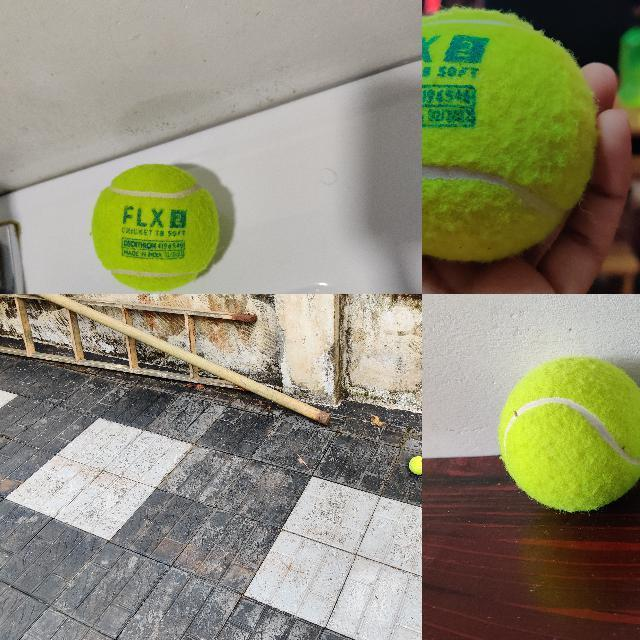tennis-ball: (422, 9, 596, 261), (497, 356, 639, 513), (91, 163, 219, 293), (408, 455, 421, 475)
